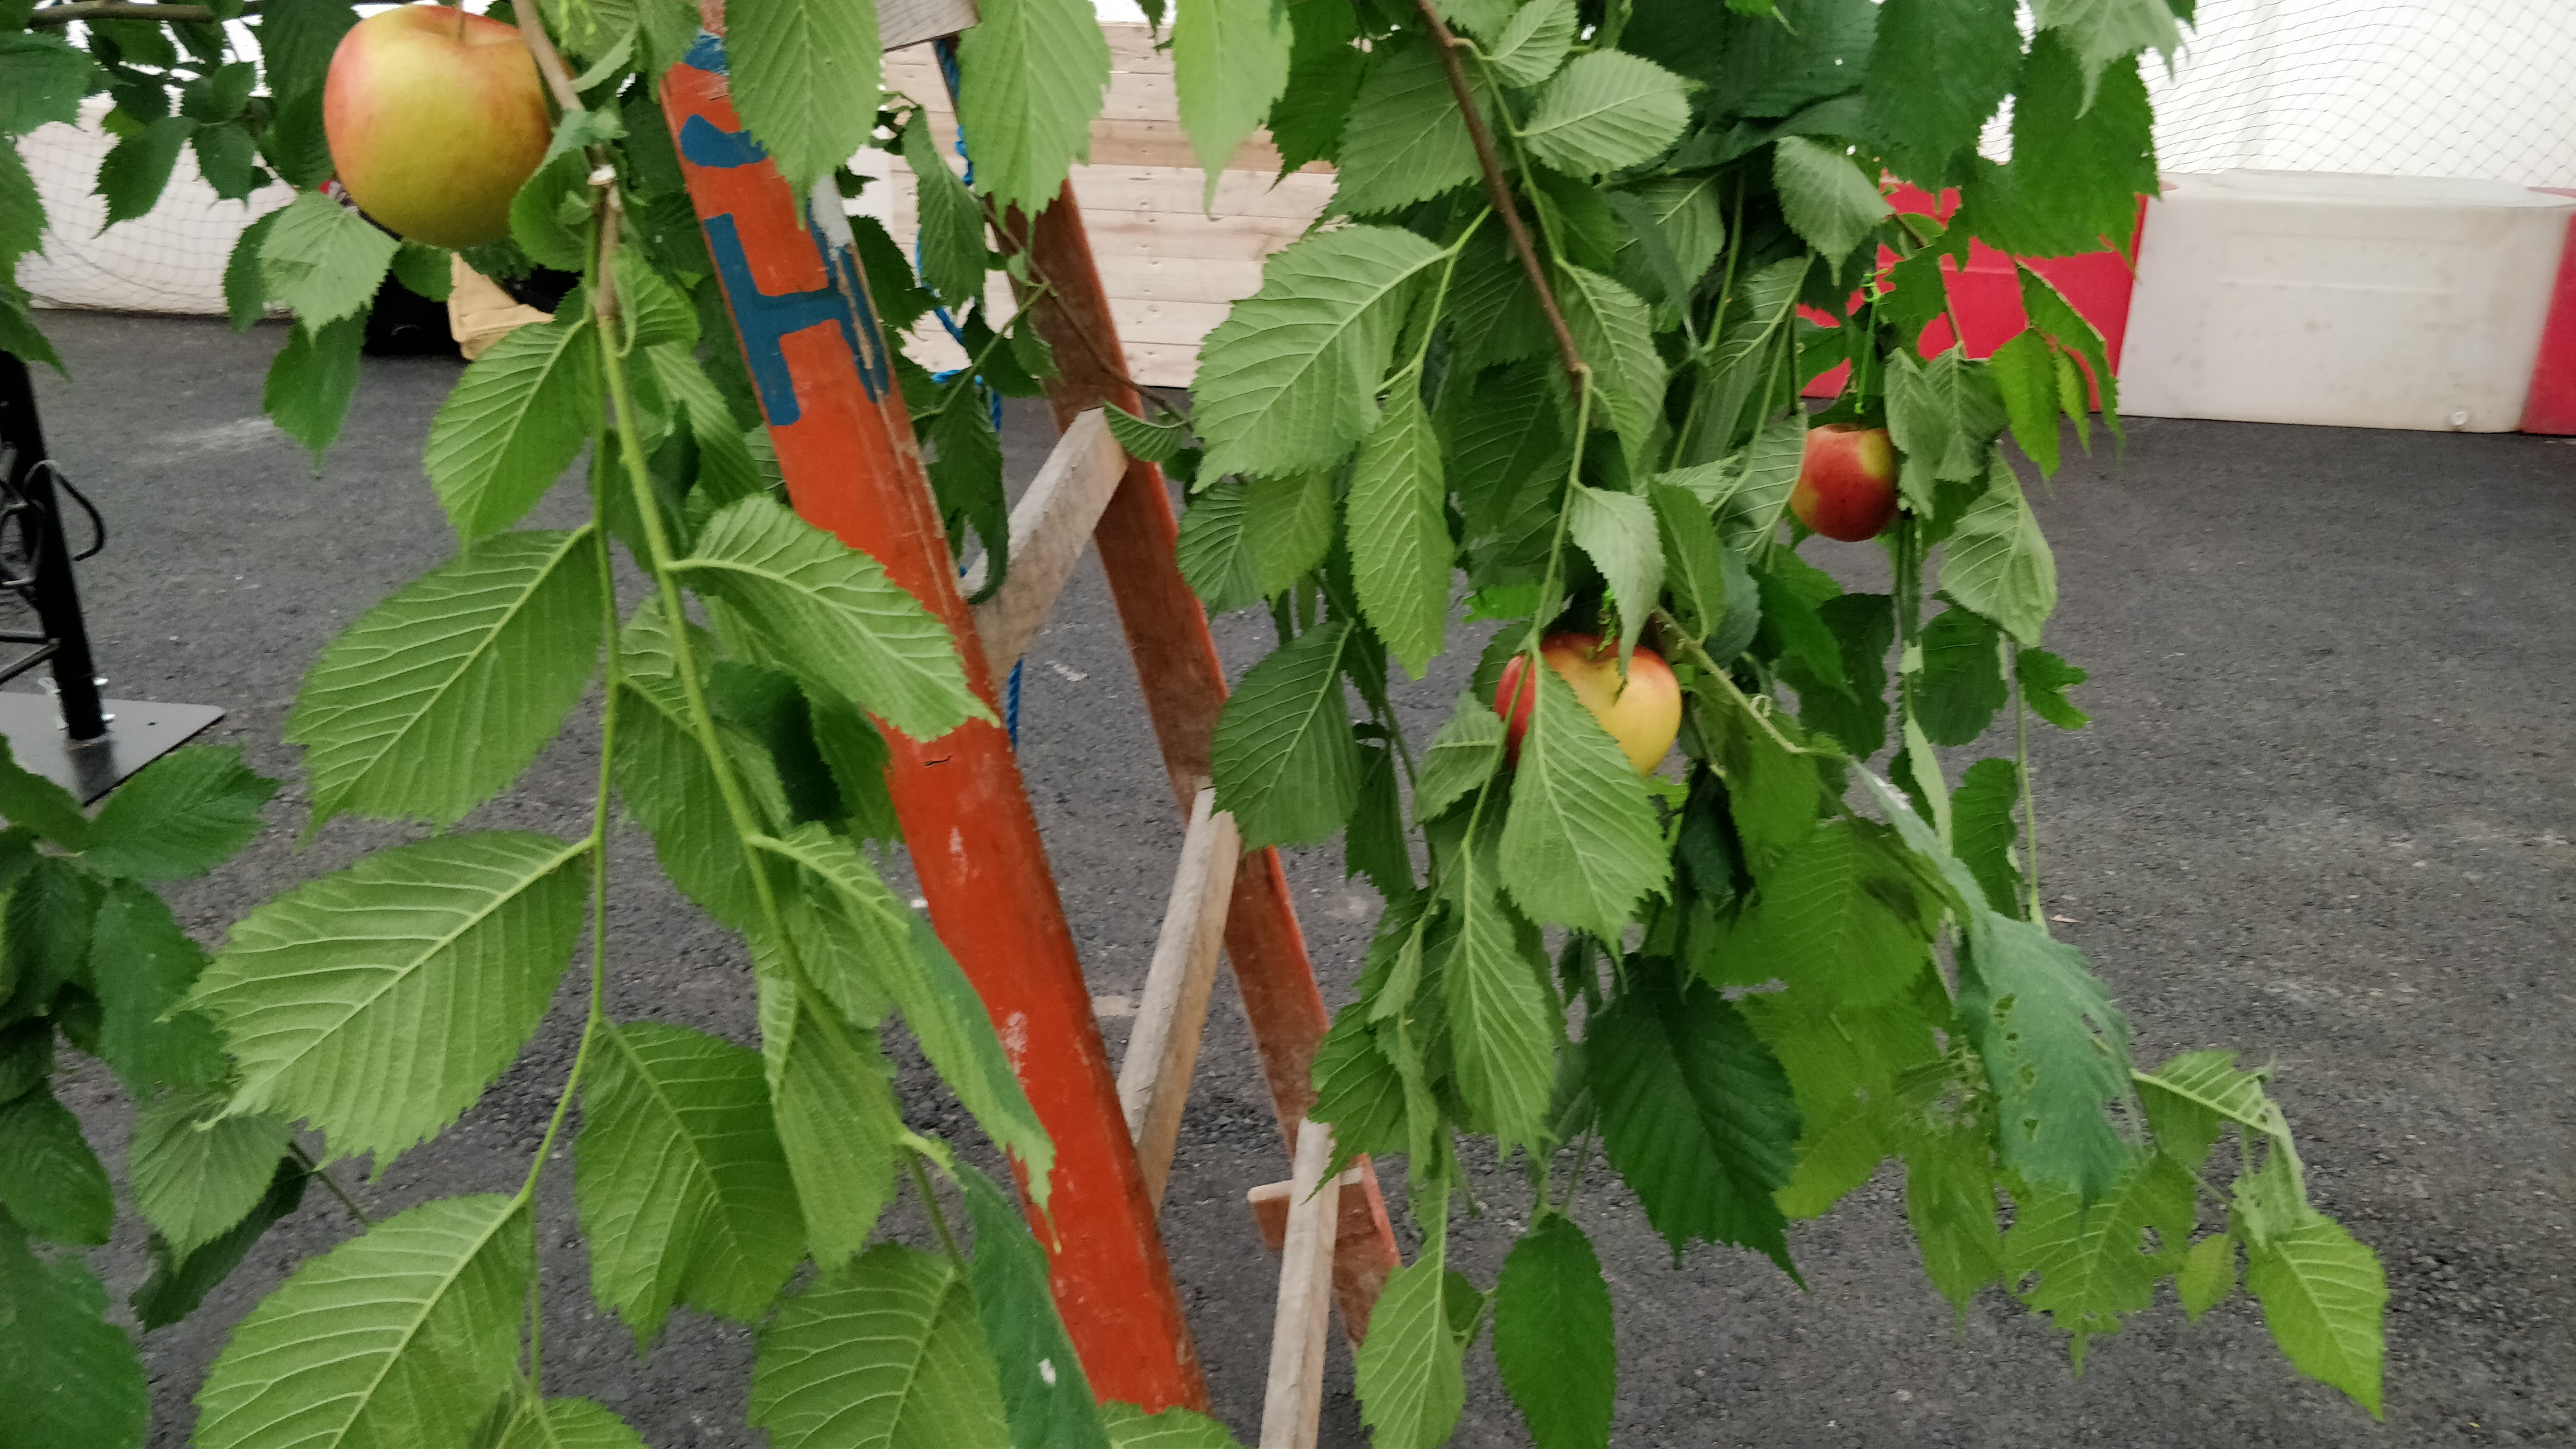apple: (322, 5, 548, 241), (1497, 646, 1681, 789), (1796, 426, 1895, 541)
